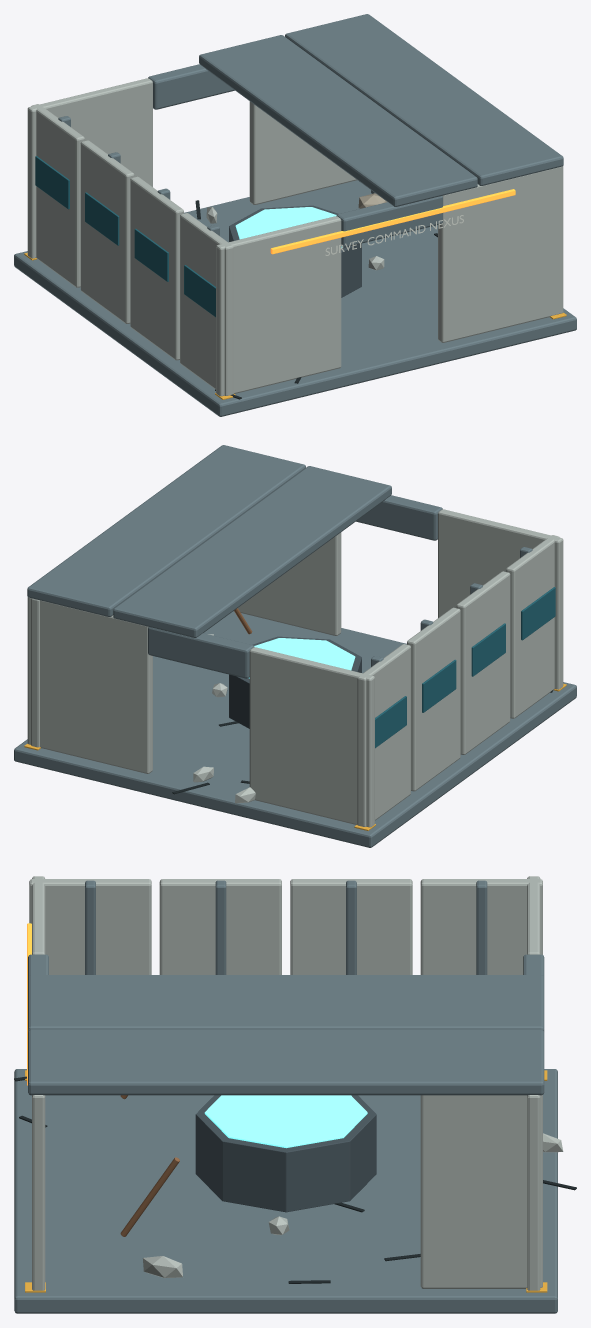
File: command_operations_d2.glb
The picture shows the model from 3 angles, top to bottom: view 1: azimuth 30°, elevation 25°; view 2: azimuth 150°, elevation 25°; view 3: azimuth 270°, elevation 25°; orthographic projection. The views are drawn at different scales.
Parts seen in each view (by area): view 1: Foundation.002, Removable roof segment.008, End bulkhead.009, End bulkhead.008, Removable roof segment.009, End bulkhead.010, Side pressure panel.018, Side pressure panel.017, Side pressure panel.016, Side pressure panel.019, End bulkhead.011, Door header.004 (+9 smaller); view 2: Foundation.002, Removable roof segment.008, End bulkhead.010, Removable roof segment.009, End bulkhead.011, End bulkhead.008, Side pressure panel.017, Side pressure panel.018, Side pressure panel.019, Side pressure panel.016, End bulkhead.009, Door header.005 (+8 smaller); view 3: Foundation.002, Removable roof segment.009, Removable roof segment.008, Side pressure panel.020, Tactical console.002, Side pressure panel.017, Side pressure panel.018, Side pressure panel.019, Side pressure panel.016, Map display.002, End bulkhead.011, End bulkhead.009 (+8 smaller).
Boxes of the visible parts, x1,y1,x2,y2 form: Foundation.002: (14, 180, 576, 416); Removable roof segment.008: (199, 35, 477, 206); End bulkhead.009: (438, 166, 563, 342); End bulkhead.008: (216, 216, 341, 396); Removable roof segment.009: (285, 14, 563, 185); End bulkhead.010: (27, 78, 152, 258); Side pressure panel.018: (80, 140, 134, 323); Side pressure panel.017: (130, 176, 183, 360); Side pressure panel.016: (180, 213, 233, 395); Side pressure panel.019: (31, 104, 84, 287); End bulkhead.011: (249, 101, 357, 204); Door header.004: (336, 196, 442, 247); Foundation.002: (14, 611, 576, 847); Removable roof segment.008: (113, 466, 391, 637); End bulkhead.010: (249, 647, 374, 827); Removable roof segment.009: (27, 445, 305, 616); End bulkhead.011: (27, 597, 152, 773); End bulkhead.008: (438, 509, 563, 689); Side pressure panel.017: (456, 571, 510, 754); Side pressure panel.018: (407, 607, 460, 791); Side pressure panel.019: (357, 644, 410, 826); Side pressure panel.016: (506, 535, 559, 718); End bulkhead.009: (233, 532, 341, 635); Door header.005: (148, 627, 254, 678); Foundation.002: (14, 1069, 557, 1313); Removable roof segment.009: (28, 1030, 544, 1095); Removable roof segment.008: (28, 975, 544, 1032); Side pressure panel.020: (420, 1095, 542, 1288); Tactical console.002: (195, 1095, 376, 1212); Side pressure panel.017: (159, 879, 281, 974); Side pressure panel.018: (290, 879, 412, 974); Side pressure panel.019: (420, 879, 542, 974); Side pressure panel.016: (29, 879, 151, 974); Map display.002: (204, 1095, 367, 1148); End bulkhead.011: (527, 1095, 540, 1290); End bulkhead.009: (32, 1095, 45, 1290).
Bounding box in the file's own units: 9 × 4.15 × 9.32.
